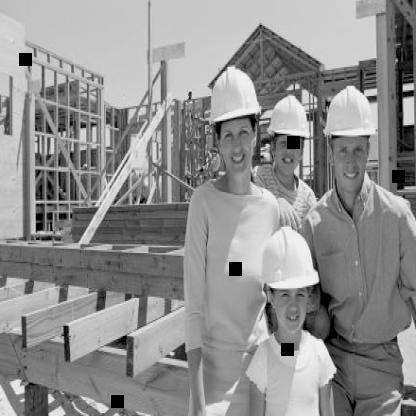helmet: (254, 224, 326, 350), (202, 67, 268, 185), (317, 77, 382, 192), (261, 89, 314, 182)
